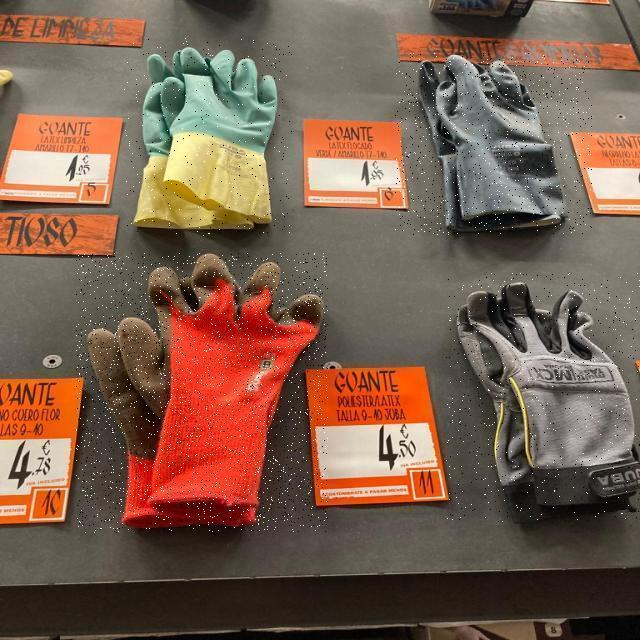gloves: (77, 253, 329, 533), (451, 273, 640, 520), (400, 51, 595, 235), (123, 46, 294, 231)
